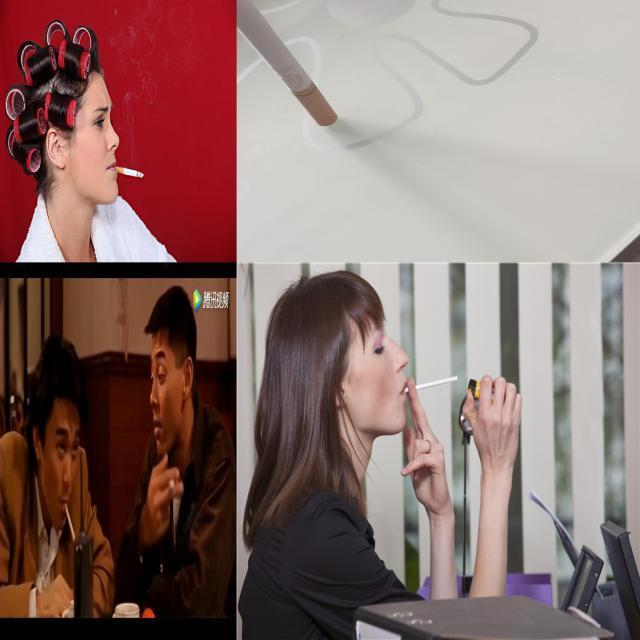smoking: (237, 0, 341, 127), (398, 371, 459, 392), (62, 494, 76, 544), (113, 165, 144, 179)
